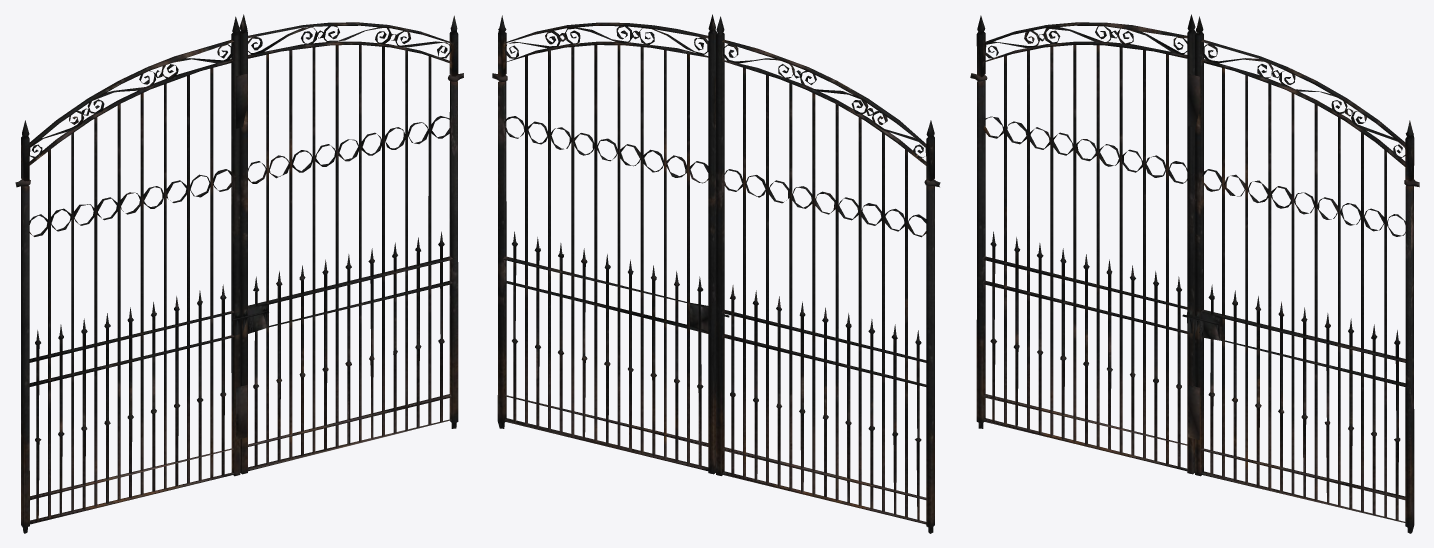
Rendered from large_iron_gate.glb.
The picture shows the model from 3 angles, left to right: view 1: azimuth 30°, elevation 25°; view 2: azimuth 150°, elevation 25°; view 3: azimuth 330°, elevation 25°; orthographic projection.
Visible parts, largest first — view 1: large_iron_gate_right_door; view 2: large_iron_gate_right_door; view 3: large_iron_gate_right_door.
Boxes of the visible parts, box(x1,y1,x2,y2) form: large_iron_gate_right_door: box(15, 14, 463, 533); large_iron_gate_right_door: box(492, 14, 940, 533); large_iron_gate_right_door: box(970, 14, 1419, 533).
Size of the model in its own units: 2.95 by 2.93 by 0.0947.
1 material, 1 textured.
